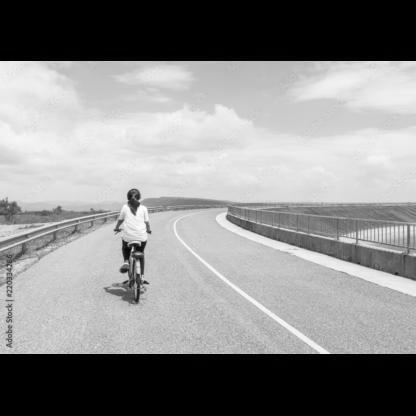Bicycle: (107, 224, 160, 310)
